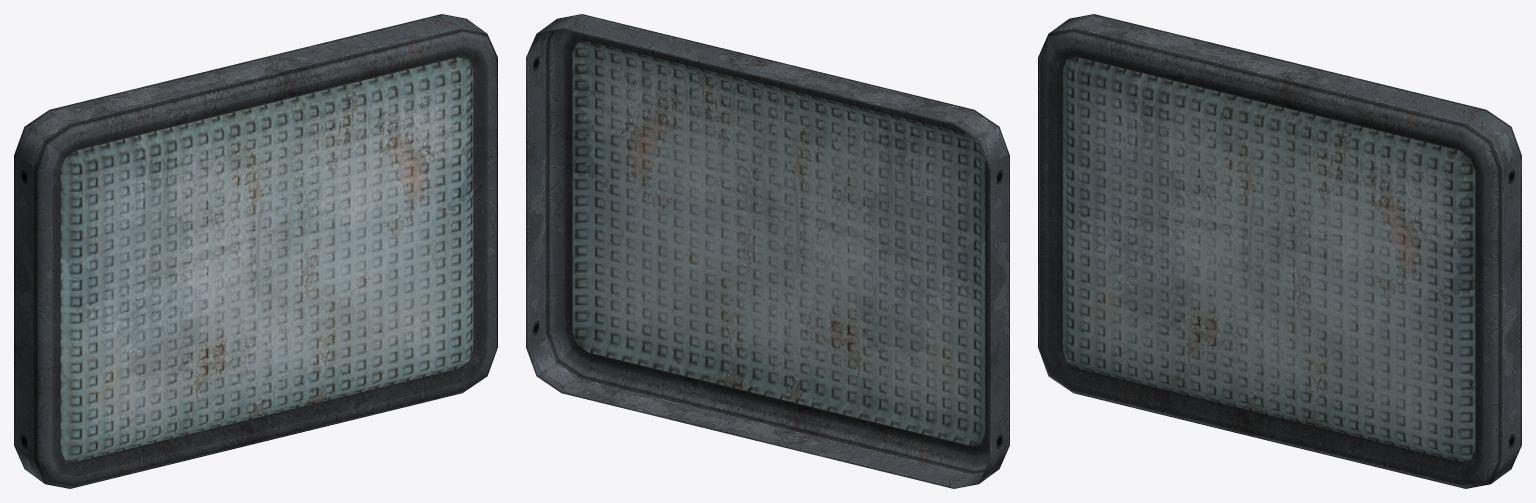
File: Light1_6.fbx
The picture shows the model from 3 angles, left to right: view 1: azimuth 30°, elevation 25°; view 2: azimuth 150°, elevation 25°; view 3: azimuth 330°, elevation 25°; orthographic projection.
Parts seen in each view (by area): view 1: pCube1; view 2: pCube1; view 3: pCube1.
Part boxes in pixels (left/top/right/bottom): pCube1: left=14, top=14, right=497, bottom=488; pCube1: left=526, top=14, right=1009, bottom=488; pCube1: left=1038, top=14, right=1521, bottom=488.
Bounding box in the file's own units: 0.5495 × 0.4127 × 0.0541.
1 material, 1 textured.
